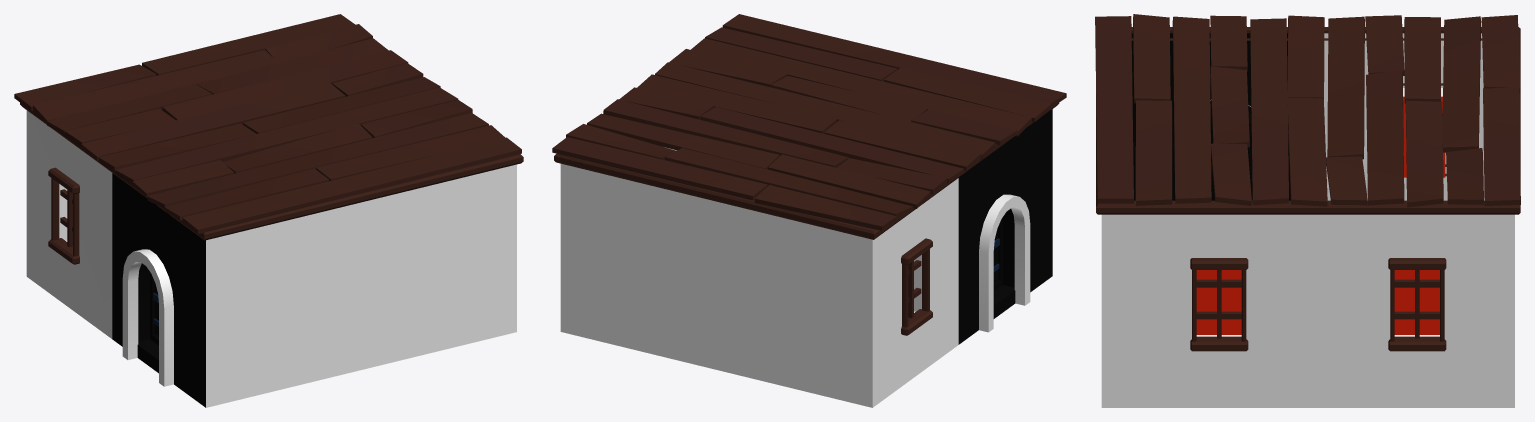
Rendered from civilian_house_39_a.FBX.
3 views of the same model, side by side, from view 1: azimuth 30°, elevation 25°; view 2: azimuth 150°, elevation 25°; view 3: azimuth 270°, elevation 25° (orthographic). The views are drawn at different scales.
Visible parts, largest first — view 1: civilian_house_39_a; view 2: civilian_house_39_a; view 3: civilian_house_39_a.
Boxes of the visible parts, box(x1,y1,x2,y2) form: civilian_house_39_a: box(14, 14, 523, 407); civilian_house_39_a: box(552, 14, 1066, 407); civilian_house_39_a: box(1095, 14, 1520, 407).
Size of the model in its own units: 639 by 342 by 618.
